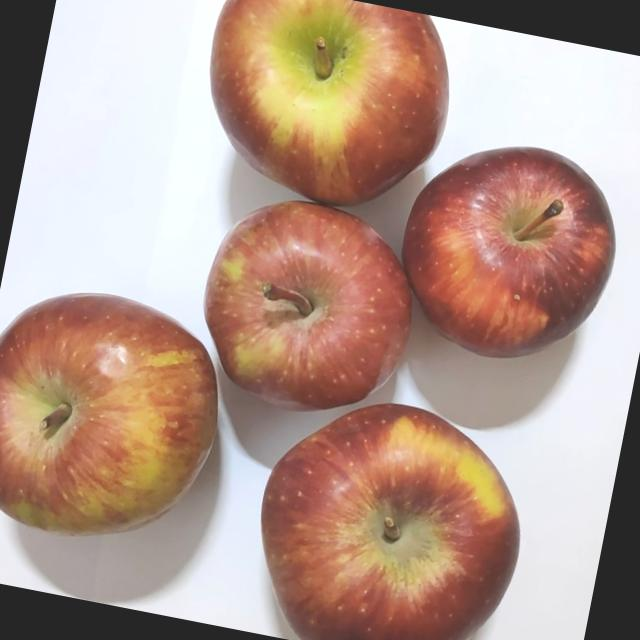apple: (229, 380, 540, 640), (0, 271, 248, 571), (178, 0, 473, 242), (374, 128, 633, 395), (174, 184, 438, 445)
